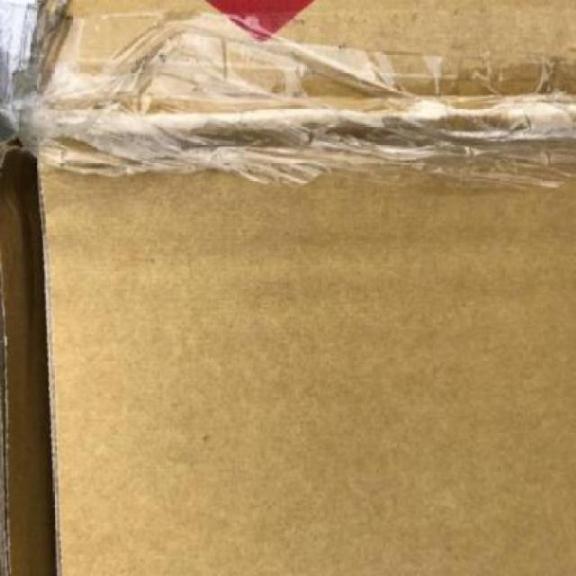Kertas: (45, 120, 575, 575)
